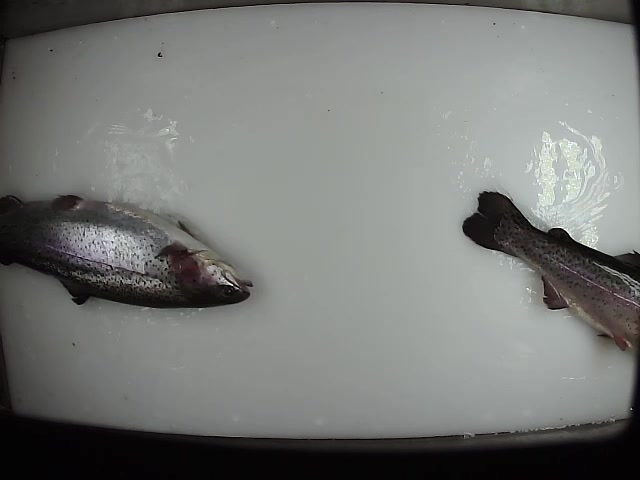fish: (1, 192, 255, 312), (461, 186, 640, 351)
